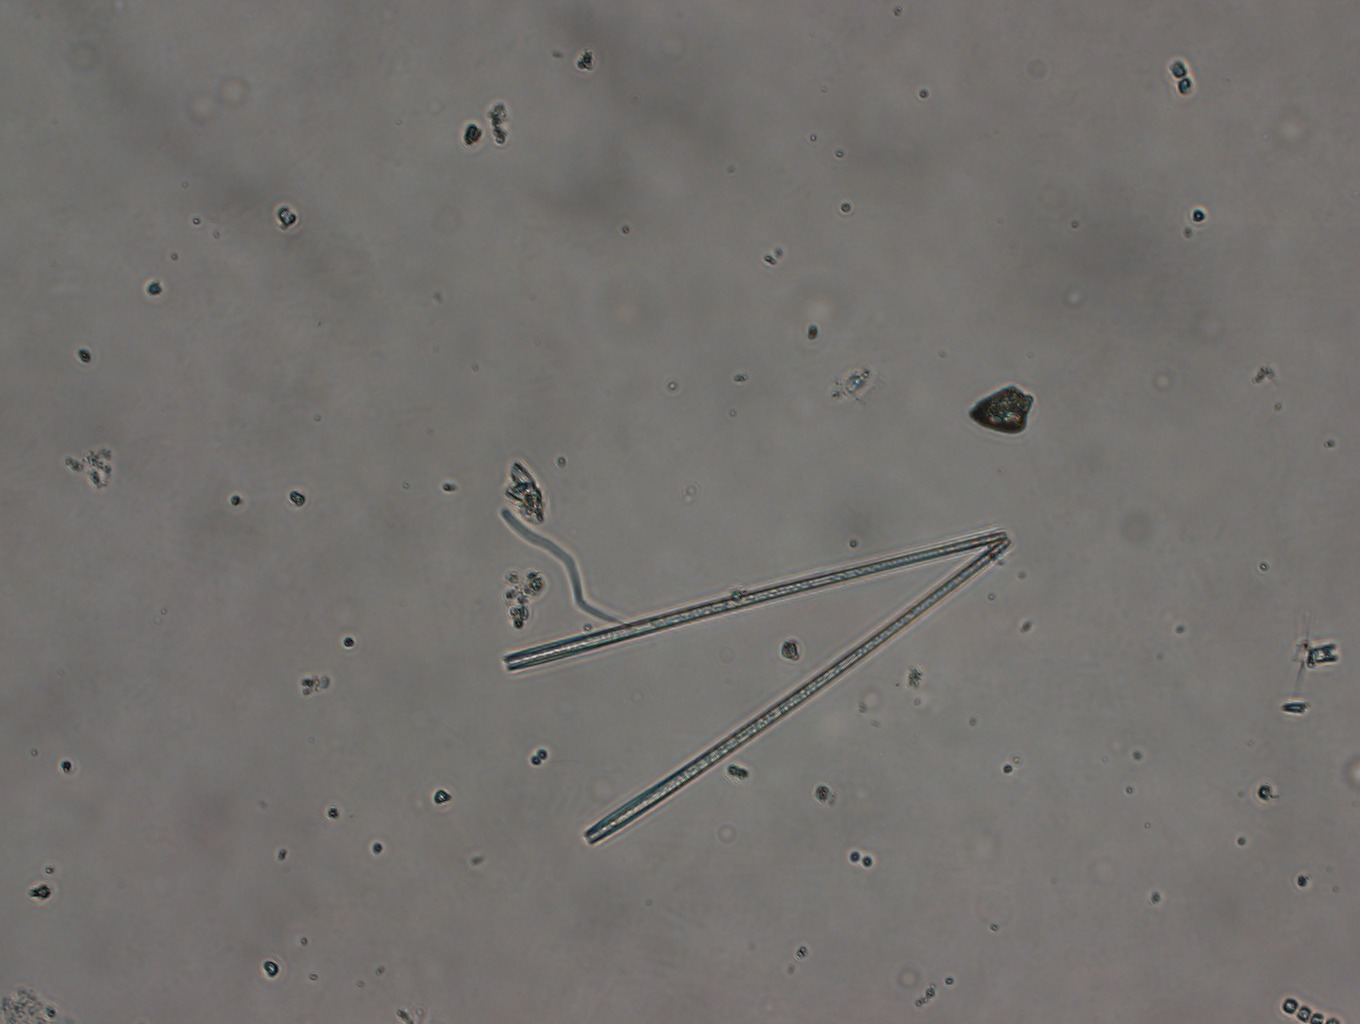thalassionema frauenfeldii: (501, 528, 1011, 847)
